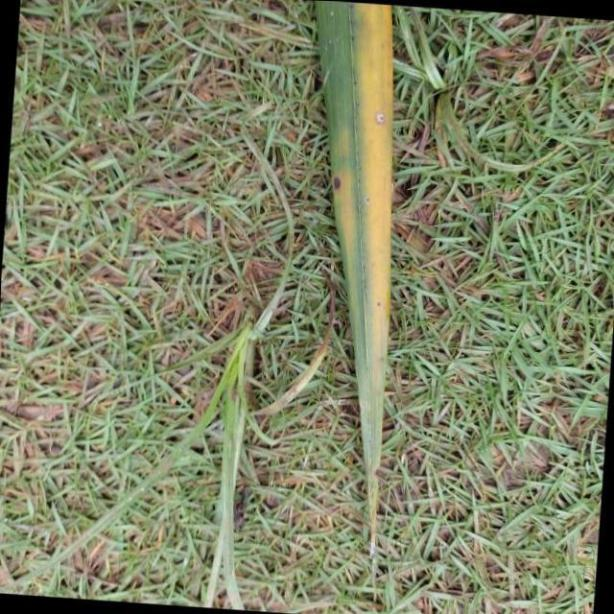Megnesium: (308, 0, 400, 603)
